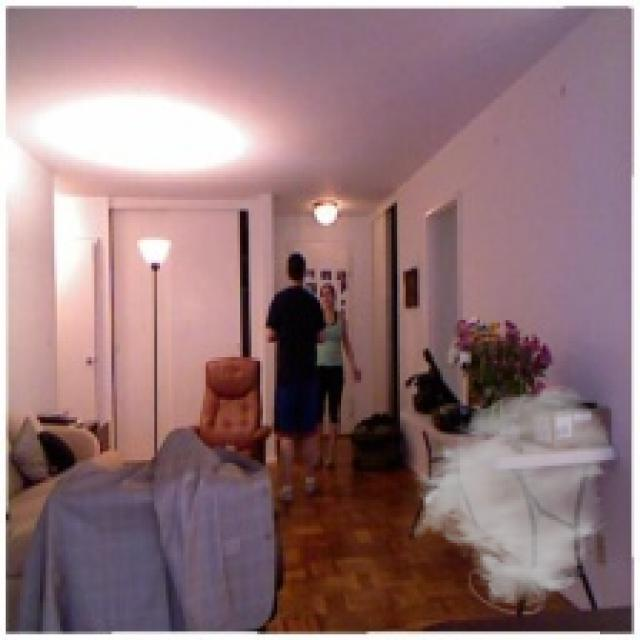Smoke: (408, 382, 614, 608)
